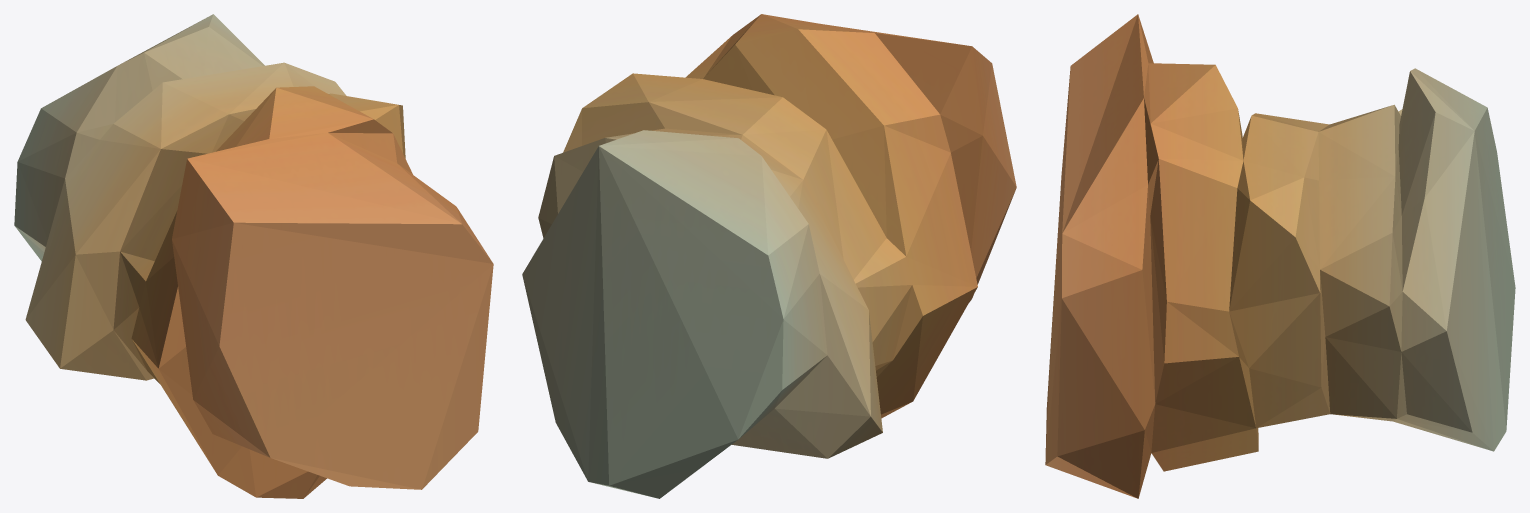
The model's file is Monument_cliffb.fbx.
The picture shows the model from 3 angles, left to right: view 1: azimuth 30°, elevation 25°; view 2: azimuth 150°, elevation 25°; view 3: azimuth 270°, elevation 25°; orthographic projection. The views are drawn at different scales.
Visible parts, largest first — view 1: Monument_cliffb; view 2: Monument_cliffb; view 3: Monument_cliffb.
Part boxes in pixels (box(x1,y1,x2,y2)): Monument_cliffb: box(14, 14, 493, 498); Monument_cliffb: box(522, 14, 1016, 498); Monument_cliffb: box(1045, 14, 1515, 498).
Bounding box in the file's own units: 532 × 595 × 624.
